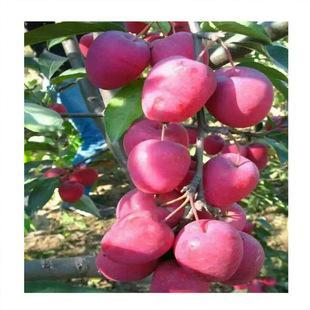apple: (141, 55, 216, 123), (174, 216, 243, 284), (205, 65, 274, 129), (101, 211, 176, 264), (86, 30, 152, 89), (127, 140, 193, 193), (201, 152, 261, 206), (116, 189, 186, 229), (122, 119, 190, 157), (57, 179, 83, 203)
